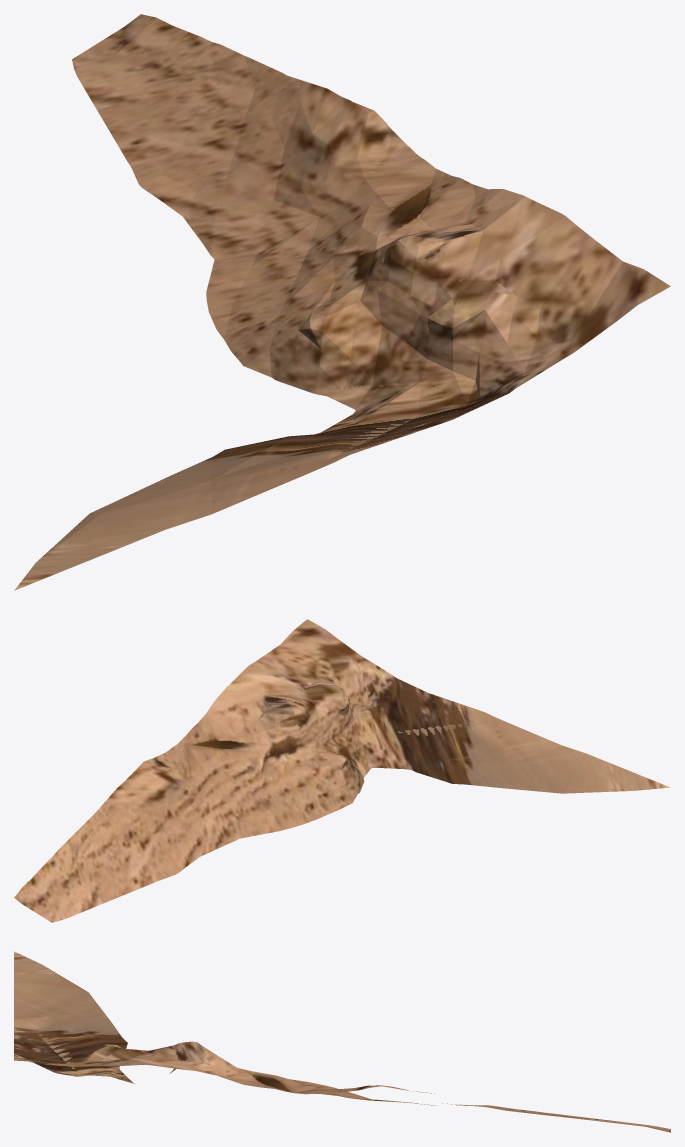
The picture shows the model from 3 angles, top to bottom: view 1: azimuth 30°, elevation 25°; view 2: azimuth 150°, elevation 25°; view 3: azimuth 270°, elevation 25°; orthographic projection. The views are drawn at different scales.
Bounding box in the file's own units: 0.7475 × 0.1568 × 1.04.
1 material, 1 textured.
